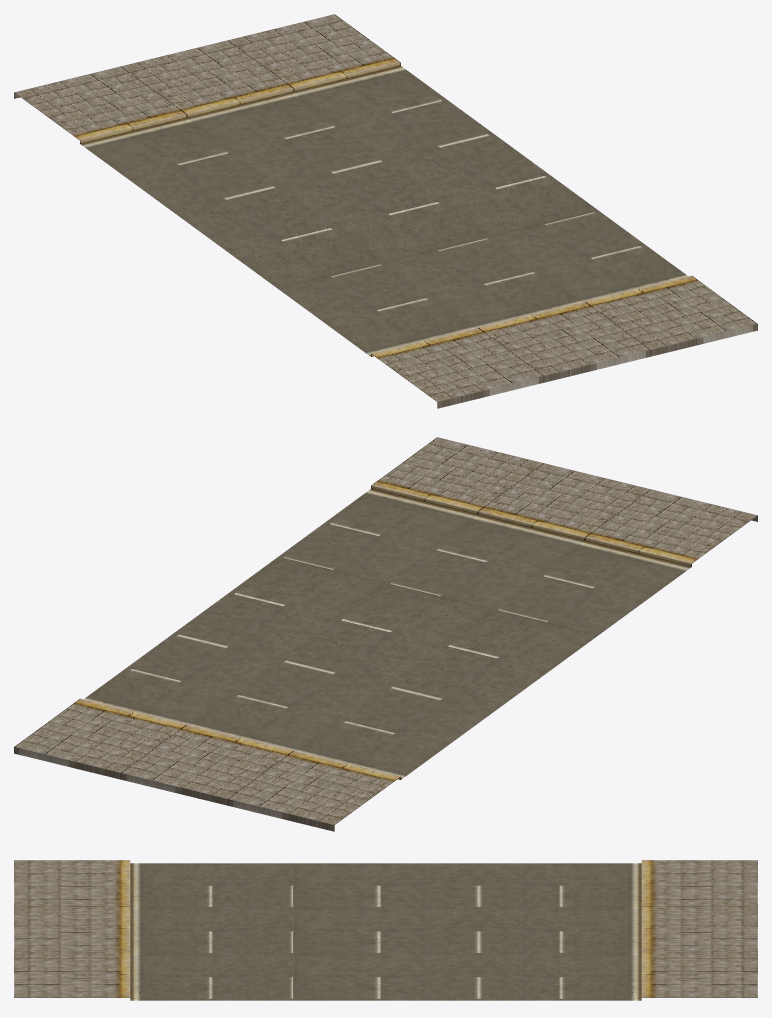
Rendered from Road2_Part_01.fbx.
The picture shows the model from 3 angles, top to bottom: view 1: azimuth 30°, elevation 25°; view 2: azimuth 150°, elevation 25°; view 3: azimuth 270°, elevation 25°; orthographic projection. The views are drawn at different scales.
Visible parts, largest first — view 1: Road_Part_06; view 2: Road_Part_06; view 3: Road_Part_06.
Part boxes in pixels (x1=…): Road_Part_06: x1=14, y1=14, x2=757, y2=408; Road_Part_06: x1=14, y1=437, x2=757, y2=831; Road_Part_06: x1=14, y1=860, x2=757, y2=1000.
Size of the model in its own units: 551 by 10.9 by 1260.
